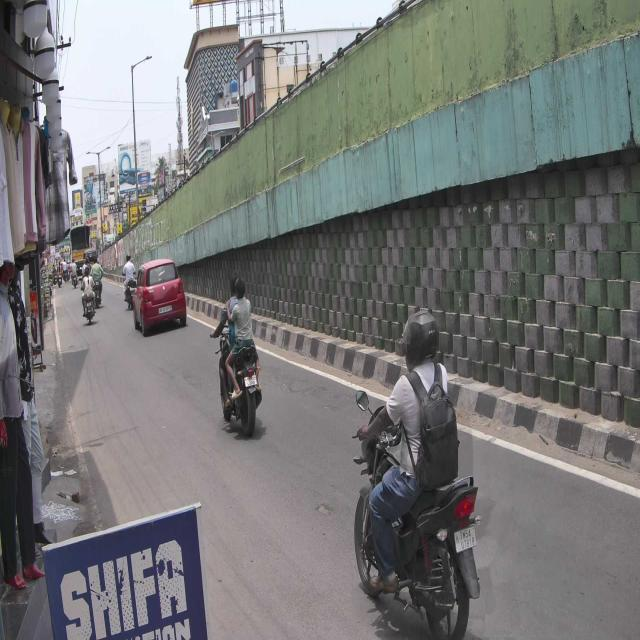double_rider: (209, 265, 263, 439)
single_rider: (353, 307, 482, 640)
